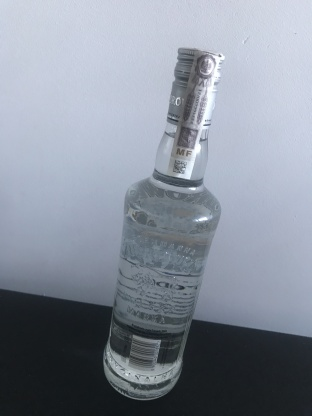nakretka: (164, 44, 226, 131)
